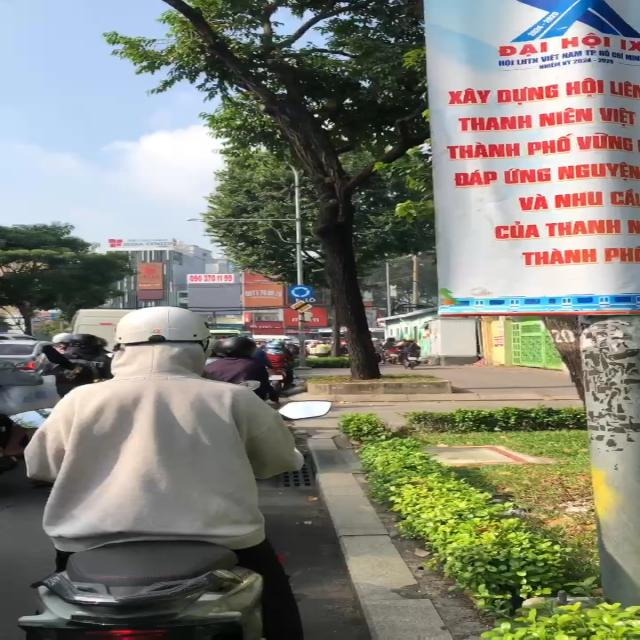Bien bao noi giao nhau chay theo vong xuyen: (284, 283, 314, 298)
